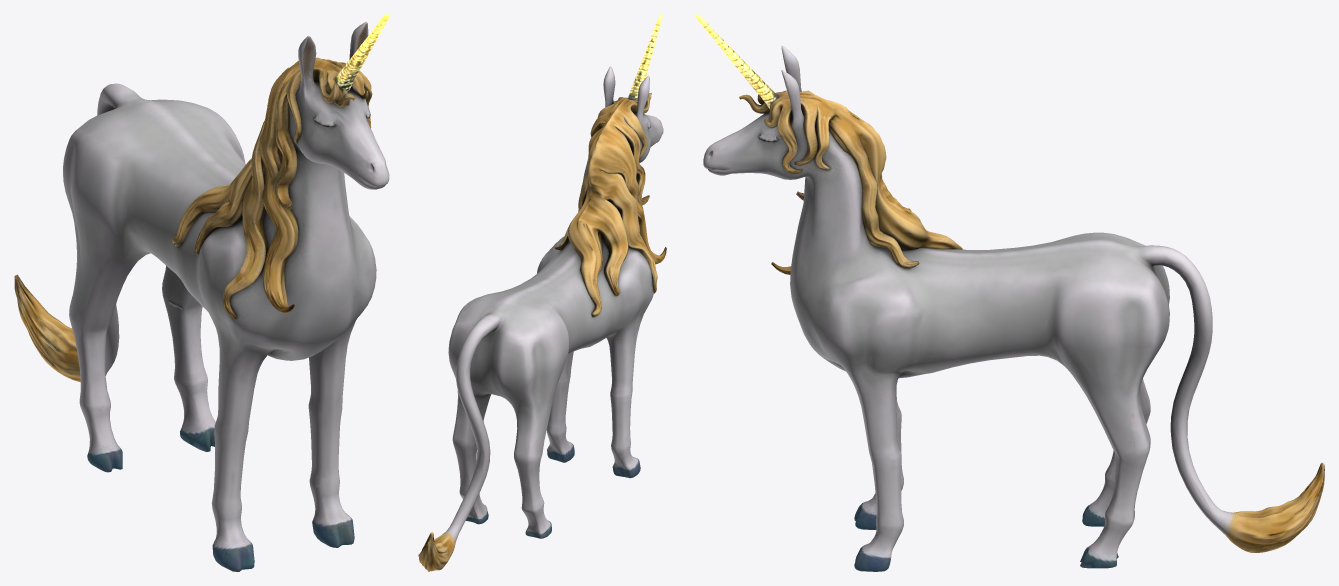
Rendered from MZ4250 - Unicorn_alt.glb.
The picture shows the model from 3 angles, left to right: view 1: azimuth 30°, elevation 25°; view 2: azimuth 150°, elevation 25°; view 3: azimuth 270°, elevation 25°; orthographic projection. The views are drawn at different scales.
Visible parts, largest first — view 1: ORGANIC BASE SPHERE.002; view 2: ORGANIC BASE SPHERE.002; view 3: ORGANIC BASE SPHERE.002.
Part boxes in pixels (x1,y1,x2,y2): ORGANIC BASE SPHERE.002: (14, 14, 389, 571); ORGANIC BASE SPHERE.002: (418, 14, 666, 571); ORGANIC BASE SPHERE.002: (695, 14, 1324, 571).
Size of the model in its own units: 0.4165 by 1.58 by 1.7.
Materials: 1 (1 with a texture image).
